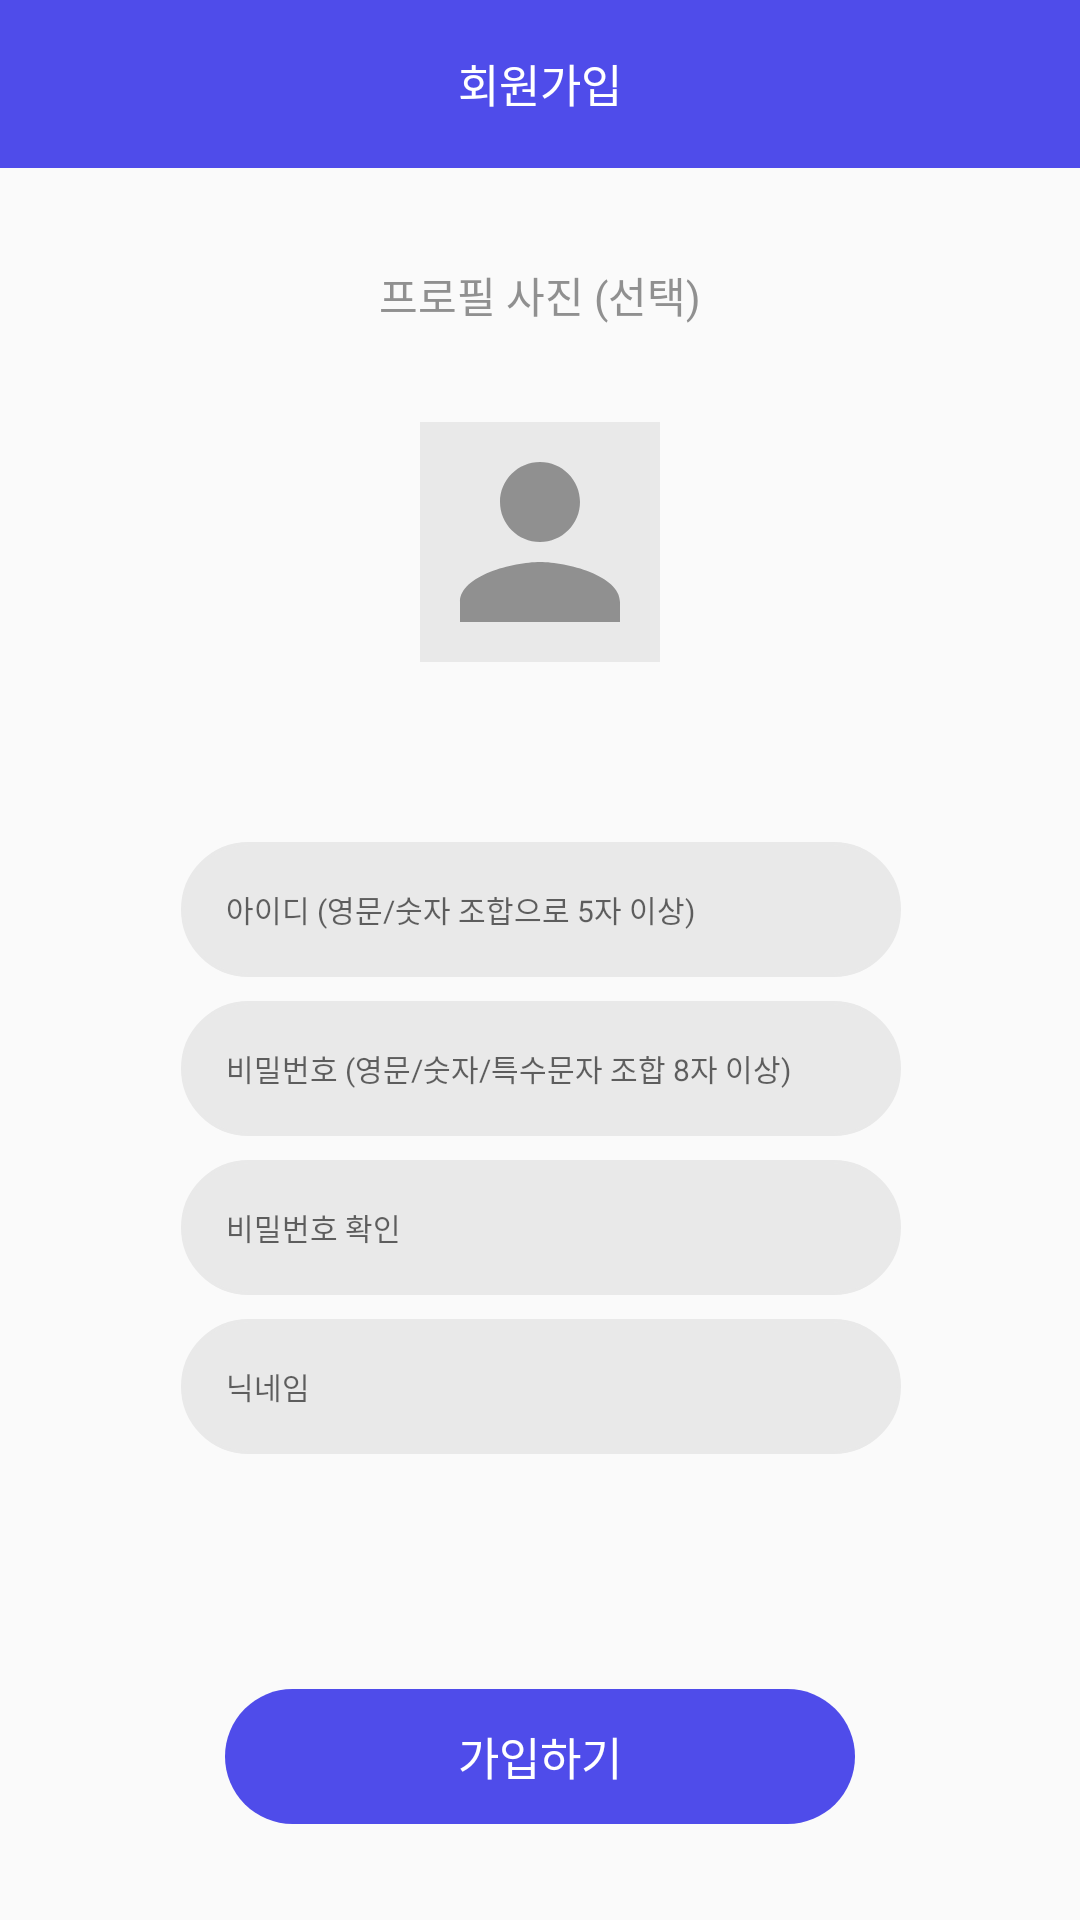

Screen size 1080px×1920px. Icon name, then its box in pixels as bbox(x1, y1, x2, y2):
basic profile: bbox(460, 462, 620, 622)
